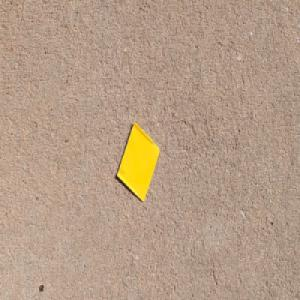PlasticPart: (115, 121, 160, 203)
